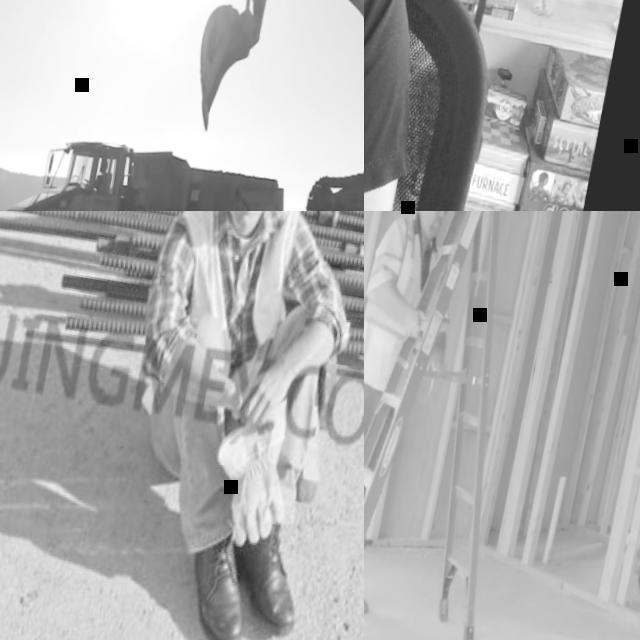vest: (140, 211, 311, 437), (364, 211, 469, 352)
